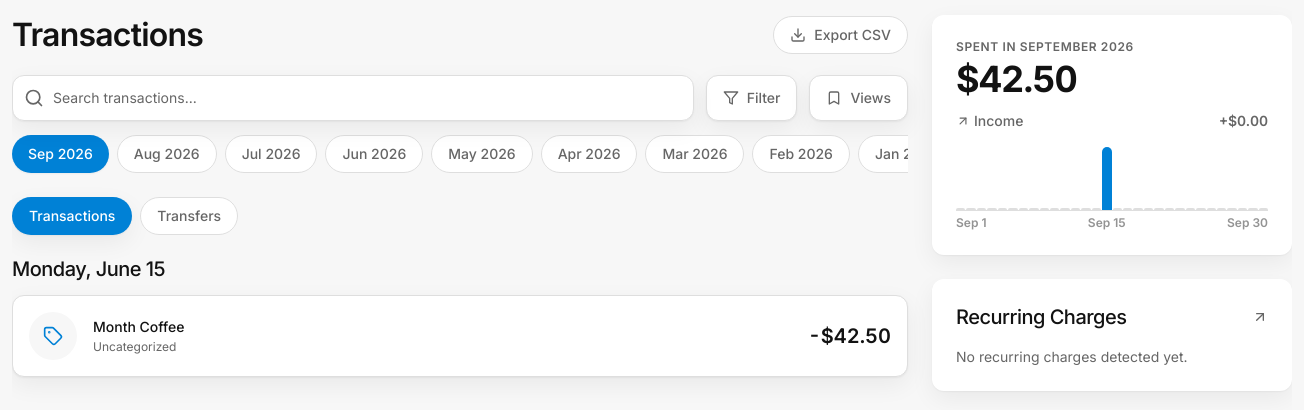
Test: shows a designed no-matches state
Type "zzz" into the search field labelled "Search transactions" at (353, 98), box top-left (12, 75), bottom-right (694, 121)
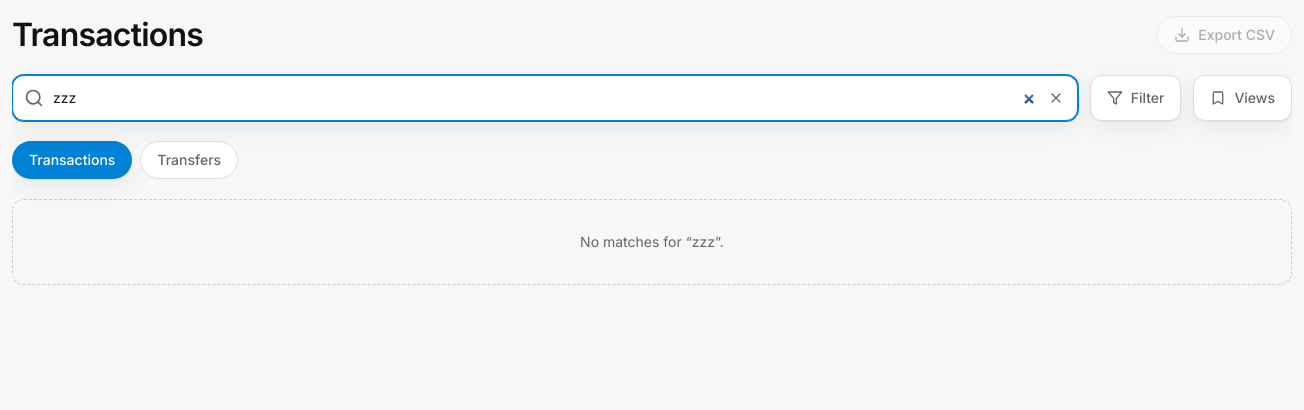
Result: the text "No matches for “zzz”." is shown at top-left (12, 199), bottom-right (1292, 285)
